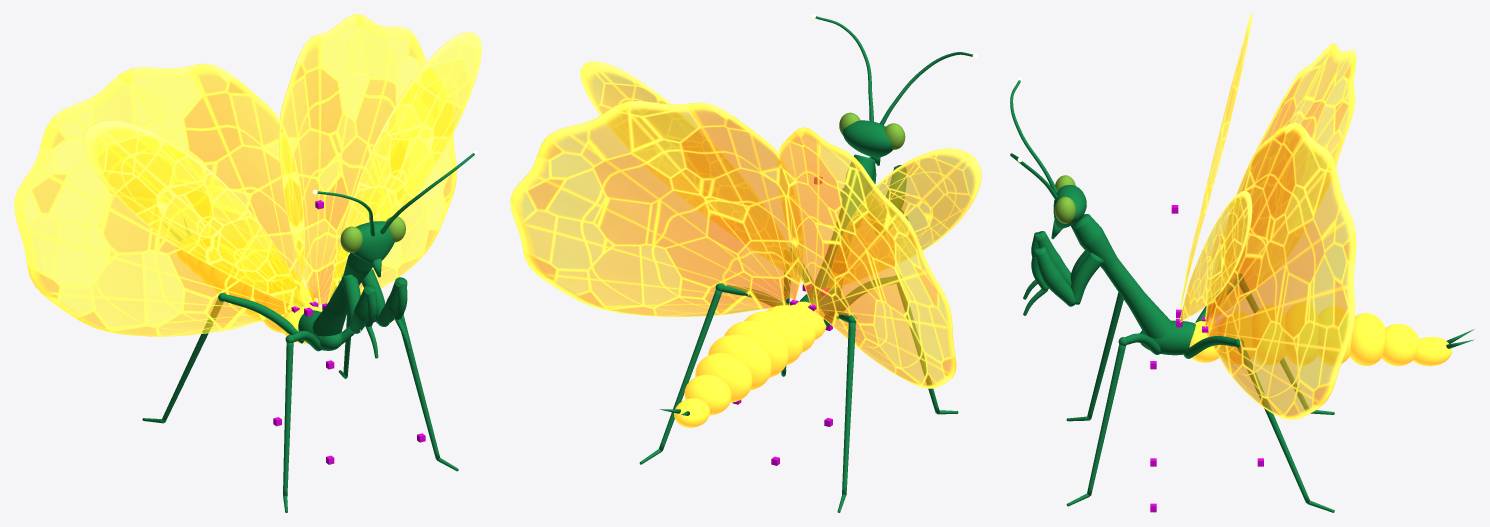
The model's file is 01_mante_luce.glb.
The picture shows the model from 3 angles, left to right: view 1: azimuth 30°, elevation 25°; view 2: azimuth 150°, elevation 25°; view 3: azimuth 270°, elevation 25°; orthographic projection. The views are drawn at different scales.
Visible parts, largest first — view 1: Mantide__Ala_Vetrata__AlaPosteriore_L, Mantide__Ala_Vetrata__AlaPosteriore_R, Mantide__Ala_Anteriore__AlaAnteriore_L, Mantide__Ala_Anteriore__AlaAnteriore_R, Mantide__Smeraldo_1, Mantide__Smeraldo_2, Mantide__Addome_Pulsante, Mantide__Occhi; view 2: Mantide__Ala_Vetrata__AlaPosteriore_R, Mantide__Ala_Vetrata__AlaPosteriore_L, Mantide__Ala_Anteriore__AlaAnteriore_R, Mantide__Ala_Anteriore__AlaAnteriore_L, Mantide__Addome_Pulsante, Mantide__Smeraldo_1, Mantide__Smeraldo_2, Mantide__Occhi; view 3: Mantide__Ala_Vetrata__AlaPosteriore_R, Mantide__Ala_Vetrata__AlaPosteriore_L, Mantide__Addome_Pulsante, Mantide__Smeraldo_1, Mantide__Smeraldo_2, Mantide__Ala_Anteriore__AlaAnteriore_R, Mantide__Ala_Anteriore__AlaAnteriore_L, Mantide__Occhi.
Part boxes in pixels (x1,y1,x2,y2): Mantide__Ala_Vetrata__AlaPosteriore_L: (14,63,304,336); Mantide__Ala_Vetrata__AlaPosteriore_R: (278,14,456,305); Mantide__Ala_Anteriore__AlaAnteriore_L: (83,120,306,310); Mantide__Ala_Anteriore__AlaAnteriore_R: (327,32,481,303); Mantide__Smeraldo_1: (298,153,474,358); Mantide__Smeraldo_2: (142,275,458,512); Mantide__Addome_Pulsante: (177,247,322,343); Mantide__Occhi: (340,216,405,252); Mantide__Ala_Vetrata__AlaPosteriore_R: (510,101,803,316); Mantide__Ala_Vetrata__AlaPosteriore_L: (777,127,956,388); Mantide__Ala_Anteriore__AlaAnteriore_R: (580,61,804,284); Mantide__Ala_Anteriore__AlaAnteriore_L: (826,148,981,290); Mantide__Addome_Pulsante: (674,301,826,427); Mantide__Smeraldo_1: (659,16,972,415); Mantide__Smeraldo_2: (639,248,958,512); Mantide__Occhi: (839,112,905,149); Mantide__Ala_Vetrata__AlaPosteriore_R: (1205,122,1356,419); Mantide__Ala_Vetrata__AlaPosteriore_L: (1205,43,1356,319); Mantide__Addome_Pulsante: (1189,303,1451,366); Mantide__Smeraldo_1: (1010,80,1474,355); Mantide__Smeraldo_2: (1066,273,1334,512); Mantide__Ala_Anteriore__AlaAnteriore_R: (1179,191,1252,322); Mantide__Ala_Anteriore__AlaAnteriore_L: (1179,14,1252,309); Mantide__Occhi: (1054,175,1075,223).
Bounding box in the file's own units: 7.21 × 5.66 × 6.5.
8 materials, 2 textured.
